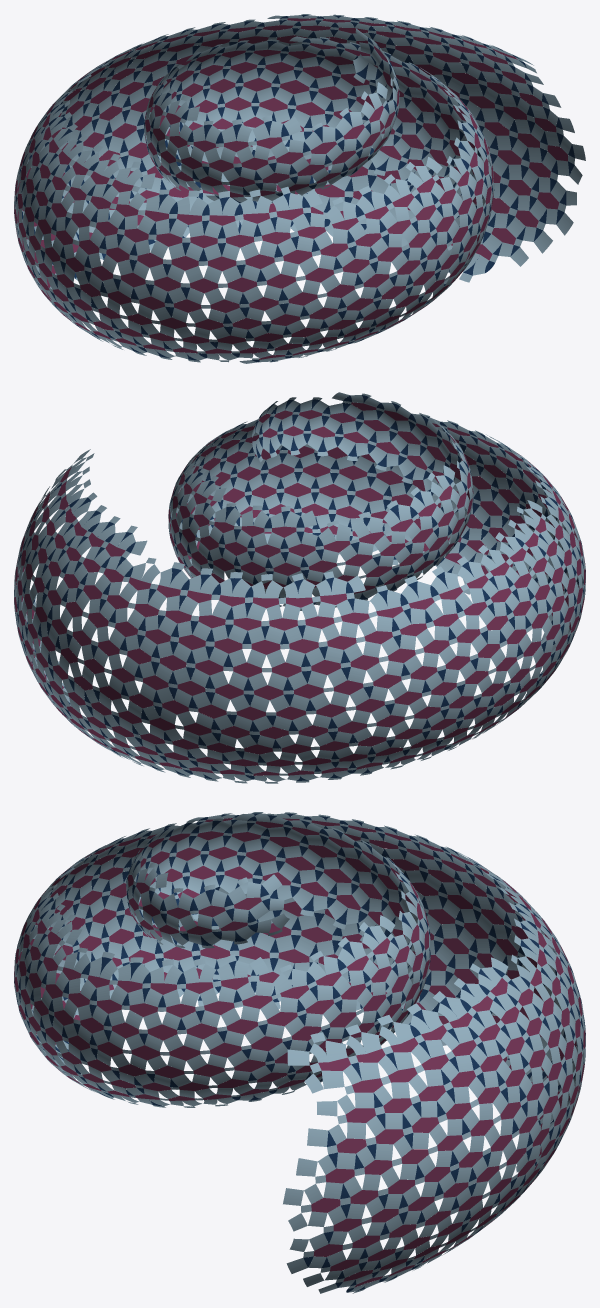
The model's file is lmesh_example.web.glb.
3 views of the same model, one above another, from view 1: azimuth 30°, elevation 25°; view 2: azimuth 150°, elevation 25°; view 3: azimuth 270°, elevation 25° (orthographic). The views are drawn at different scales.
Visible parts, largest first — view 1: lmesh_cone_panels, lmesh_flat_panels, lmesh_sph_panels; view 2: lmesh_cone_panels, lmesh_flat_panels, lmesh_sph_panels; view 3: lmesh_cone_panels, lmesh_flat_panels, lmesh_sph_panels.
Part boxes in pixels (x1,y1,x2,y2): lmesh_cone_panels: (14, 14, 585, 363); lmesh_flat_panels: (14, 18, 567, 359); lmesh_sph_panels: (14, 15, 574, 362); lmesh_cone_panels: (14, 392, 585, 783); lmesh_flat_panels: (14, 402, 585, 775); lmesh_sph_panels: (14, 395, 585, 780); lmesh_cone_panels: (14, 812, 585, 1293); lmesh_flat_panels: (14, 818, 585, 1287); lmesh_sph_panels: (14, 813, 585, 1292).
Bounding box in the file's own units: 14.69 × 8.34 × 12.68.
